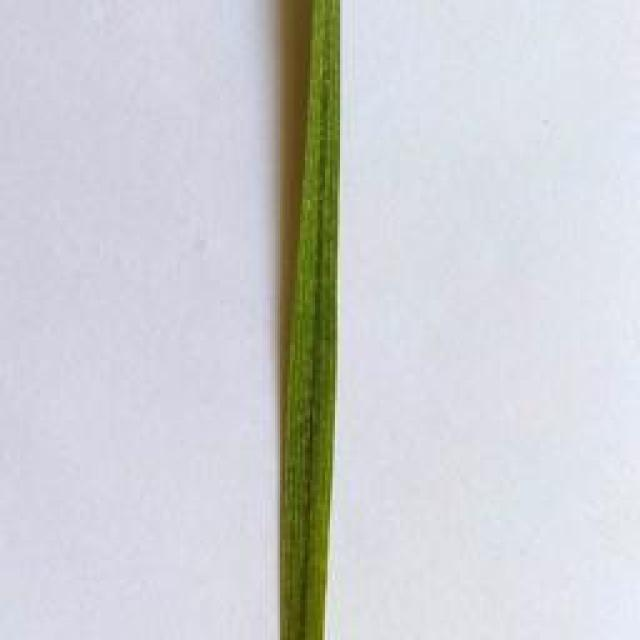Healthy-Plant: (280, 3, 338, 640)
